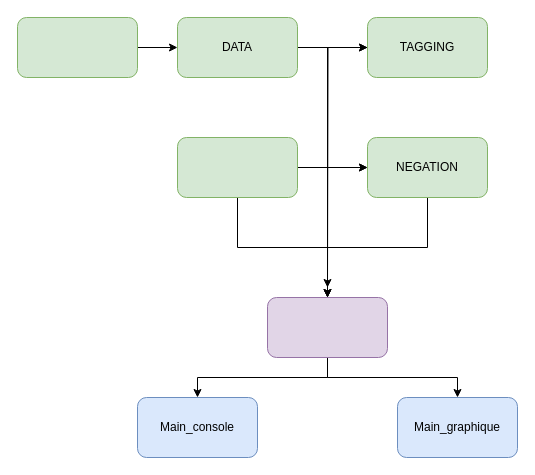
The diagram is 535 pixels wide and 475 high, and some of its shapes have lost their labels. The shapes that lost their labels are listed below. From the top down, each one's box as (x1, y1, x2, y2) in pixels, then its label:
(16, 16, 138, 78): ONTO
(176, 136, 298, 198): LEMMAT
(266, 296, 388, 358): TREATMENT_FILE
